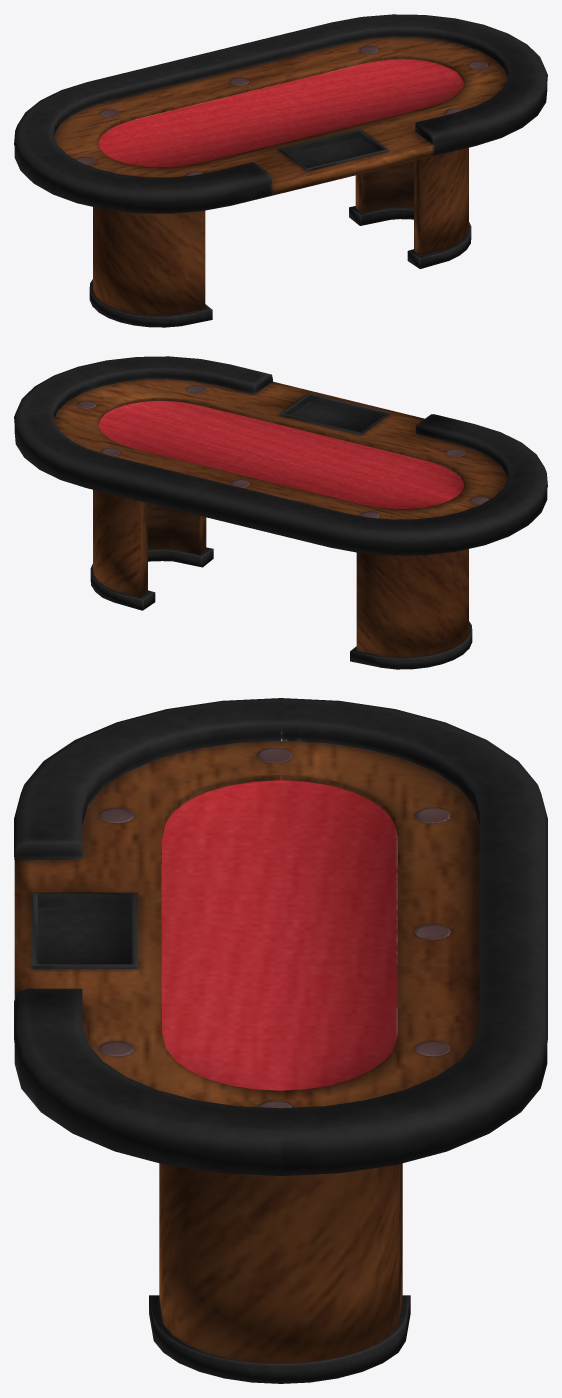
The model's file is poker_table_empty.glb.
The picture shows the model from 3 angles, top to bottom: view 1: azimuth 30°, elevation 25°; view 2: azimuth 150°, elevation 25°; view 3: azimuth 270°, elevation 25°; orthographic projection. The views are drawn at different scales.
Parts seen in each view (by area): view 1: Object_2; view 2: Object_2; view 3: Object_2.
Boxes of the visible parts, x1,y1,x2,y2 form: Object_2: (14, 14, 547, 327); Object_2: (14, 356, 547, 669); Object_2: (14, 698, 547, 1383).
Bounding box in the file's own units: 2.93 × 0.9328 × 1.48.
Materials: 1 (1 with a texture image).
